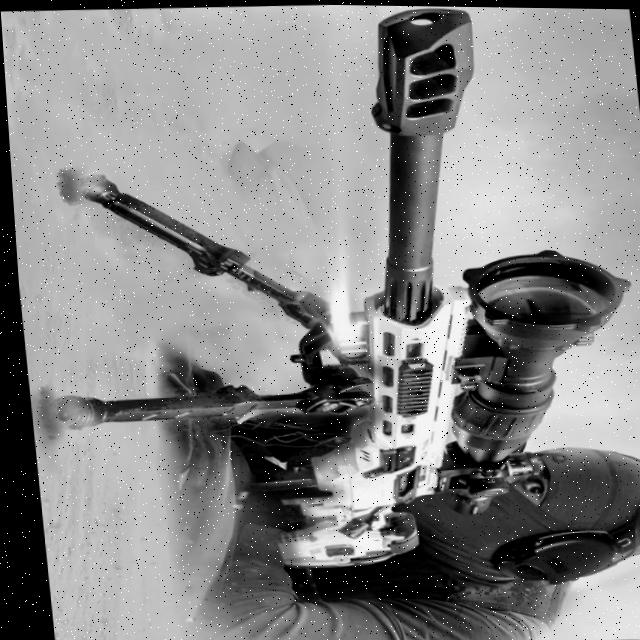firearm: (6, 0, 640, 580)
